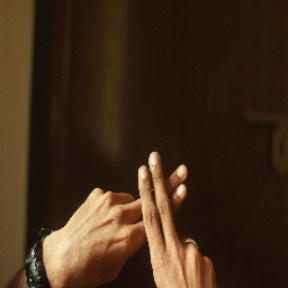F: (105, 135, 212, 273)
